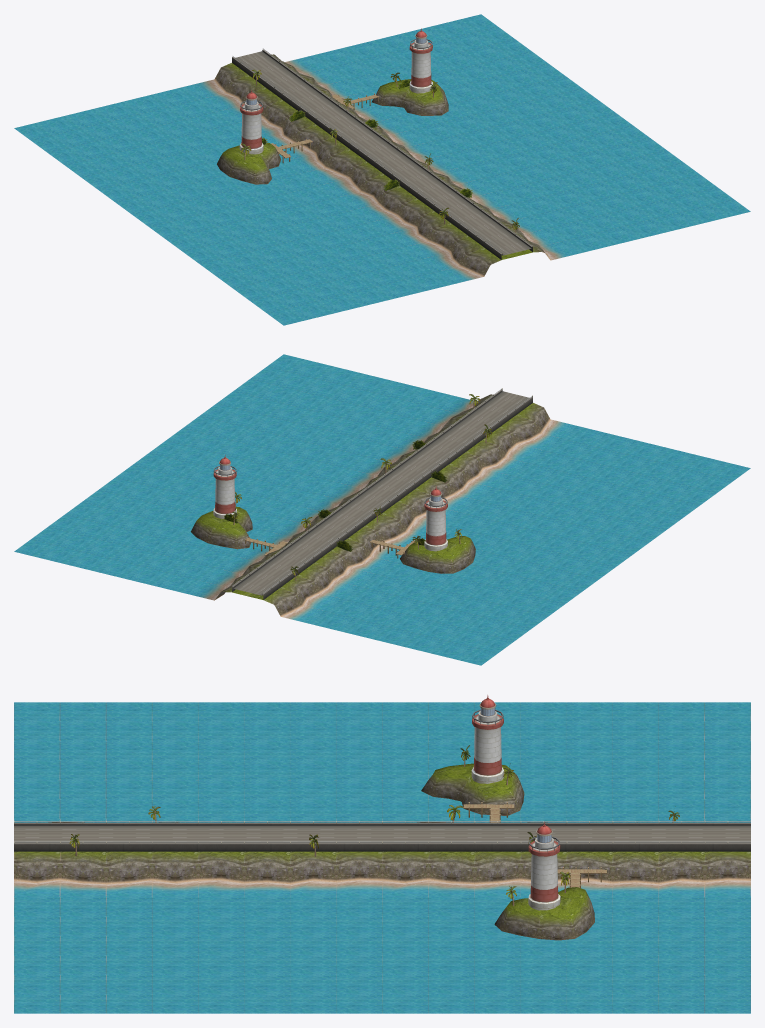
File: Track06_Low.FBX
3 views of the same model, one above another, from view 1: azimuth 30°, elevation 25°; view 2: azimuth 150°, elevation 25°; view 3: azimuth 270°, elevation 25° (orthographic). The views are drawn at different scales.
Parts seen in each view (by area): view 1: Ground, Road (×2), Rock (×2), LightHouse (×2); view 2: Ground, Road (×2), Rock (×2), LightHouse (×2); view 3: Ground, Road (×2), Rock (×2), LightHouse (×2).
Part boxes in pixels (x1,y1,x2,y2): Ground: (14,14,750,325); Road (×2): (232,48,532,259); Rock (×2): (217,79,448,184); LightHouse (×2): (239,28,432,154); Ground: (14,354,750,665); Road (×2): (232,388,532,599); Rock (×2): (191,506,475,573); LightHouse (×2): (213,455,447,551); Ground: (14,702,750,1013); Road (×2): (14,821,750,851); Rock (×2): (421,763,594,940); LightHouse (×2): (471,695,560,910).
Bounding box in the file's own units: 6300 × 977 × 6300.
